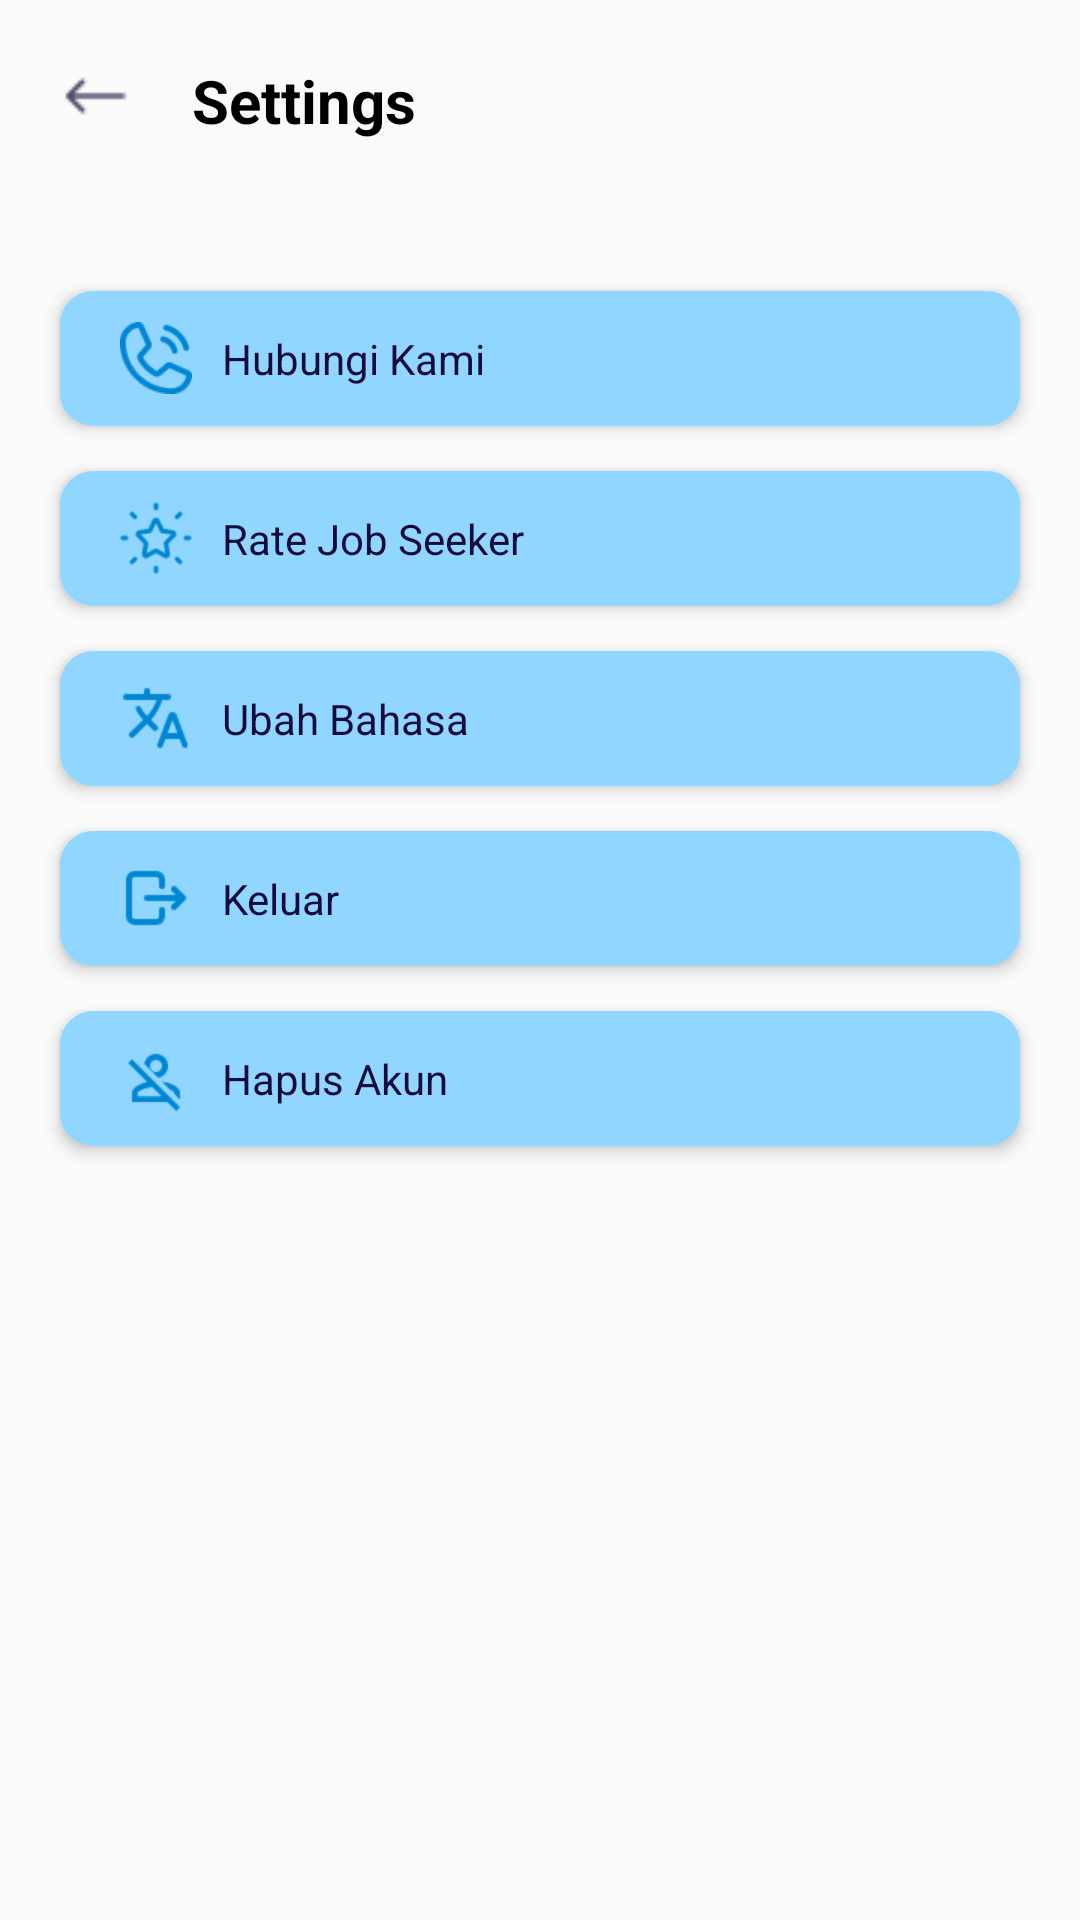

Point at icon controls on the screen. Image size 1080 × 1920, points as (x=x, y=y).
back: (x=96, y=96)
delete account: (x=154, y=1082)
language: (x=155, y=718)
phone: (x=156, y=358)
